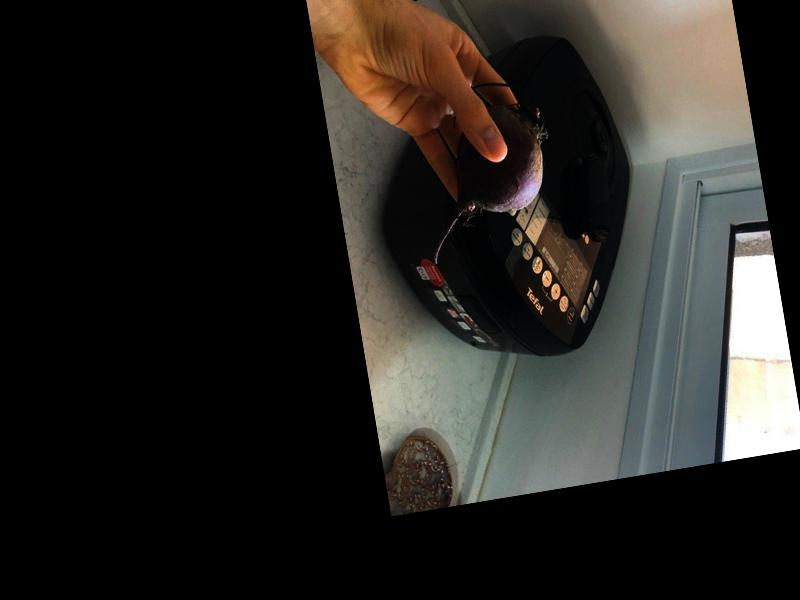Beet: (405, 76, 565, 264)
